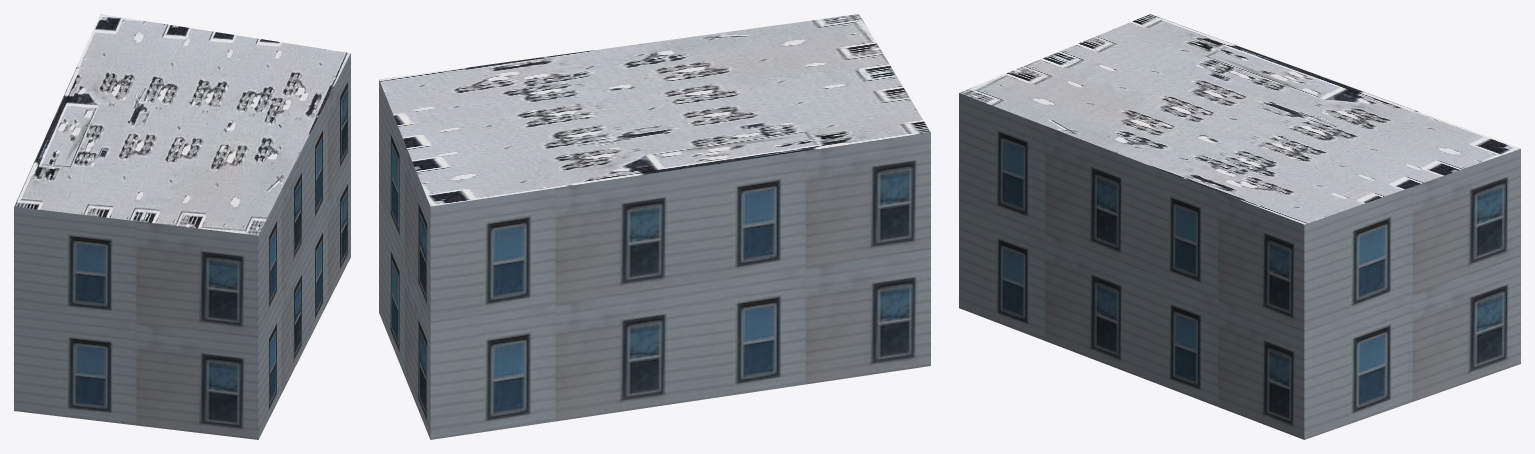
Rendered from ResTex__1824.fbx.
The picture shows the model from 3 angles, left to right: view 1: azimuth 30°, elevation 25°; view 2: azimuth 150°, elevation 25°; view 3: azimuth 270°, elevation 25°; orthographic projection. The views are drawn at different scales.
Visible parts, largest first — view 1: CityEngineMaterial_18_m, CityEngineMaterial_4_m; view 2: CityEngineMaterial_18_m, CityEngineMaterial_4_m; view 3: CityEngineMaterial_18_m, CityEngineMaterial_4_m.
Boxes of the visible parts, box(x1,y1,x2,y2) form: CityEngineMaterial_18_m: box(14, 53, 350, 439); CityEngineMaterial_4_m: box(14, 14, 350, 235); CityEngineMaterial_18_m: box(379, 80, 930, 439); CityEngineMaterial_4_m: box(379, 14, 930, 206); CityEngineMaterial_18_m: box(959, 93, 1520, 439); CityEngineMaterial_4_m: box(959, 14, 1520, 224).
Size of the model in its own units: 12.6 by 6 by 14.19.
Materials: 2 (2 with a texture image).
